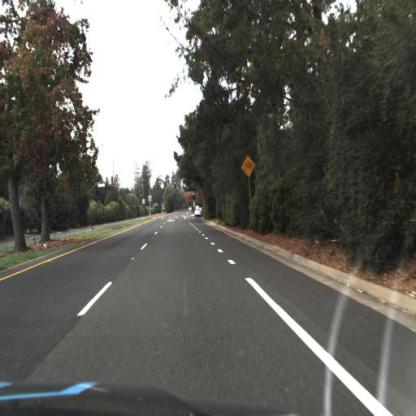car: (196, 208, 205, 218)
